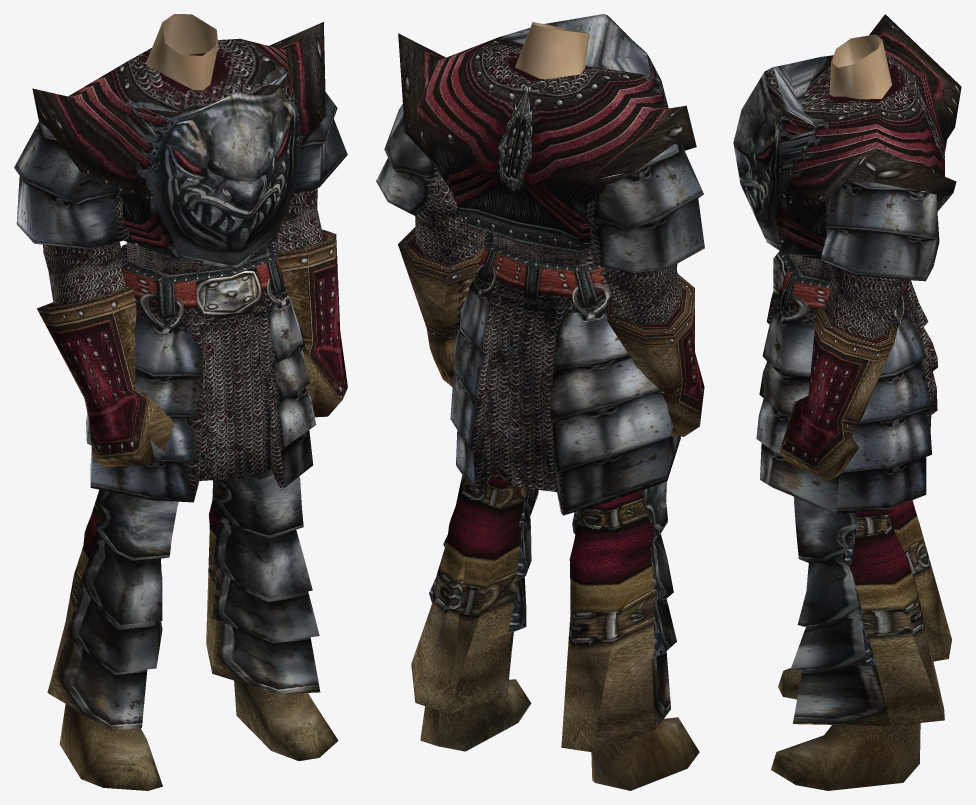
The model's file is ARMOR_THORUS_ADDON.glb.
3 views of the same model, side by side, from view 1: azimuth 30°, elevation 25°; view 2: azimuth 150°, elevation 25°; view 3: azimuth 270°, elevation 25° (orthographic). The views are drawn at different scales.
Visible parts, largest first — view 1: ARMOR_THORUS_ADDON; view 2: ARMOR_THORUS_ADDON; view 3: ARMOR_THORUS_ADDON.
Part boxes in pixels (x1=…): ARMOR_THORUS_ADDON: x1=14, y1=14, x2=347, y2=790; ARMOR_THORUS_ADDON: x1=376, y1=14, x2=704, y2=790; ARMOR_THORUS_ADDON: x1=733, y1=14, x2=961, y2=790.
Size of the model in its own units: 0.7463 by 1.66 by 0.4956.
Materials: 2 (2 with a texture image).
